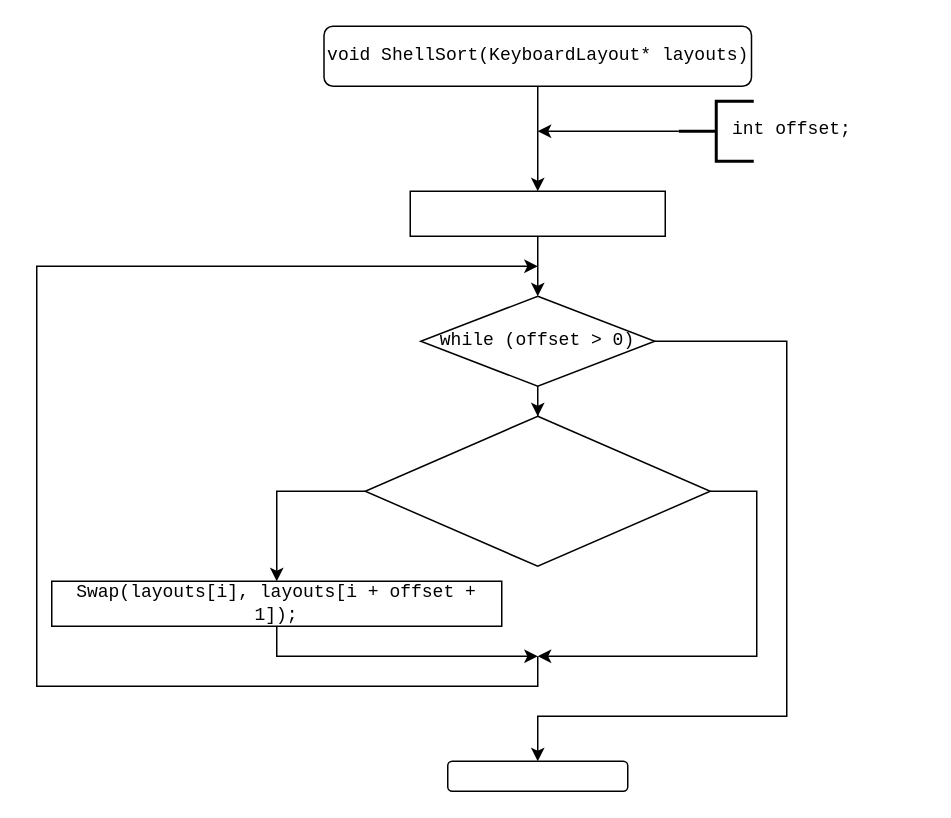
This 951x818 diagram has some shape labels left out. Each missing label, with the box of its shape:
if (layouts[i].ReleaseYear > layouts[i + offset + 1].ReleaseYear): (364, 415, 710, 566)
offset = _itemCount;: (409, 190, 665, 236)
